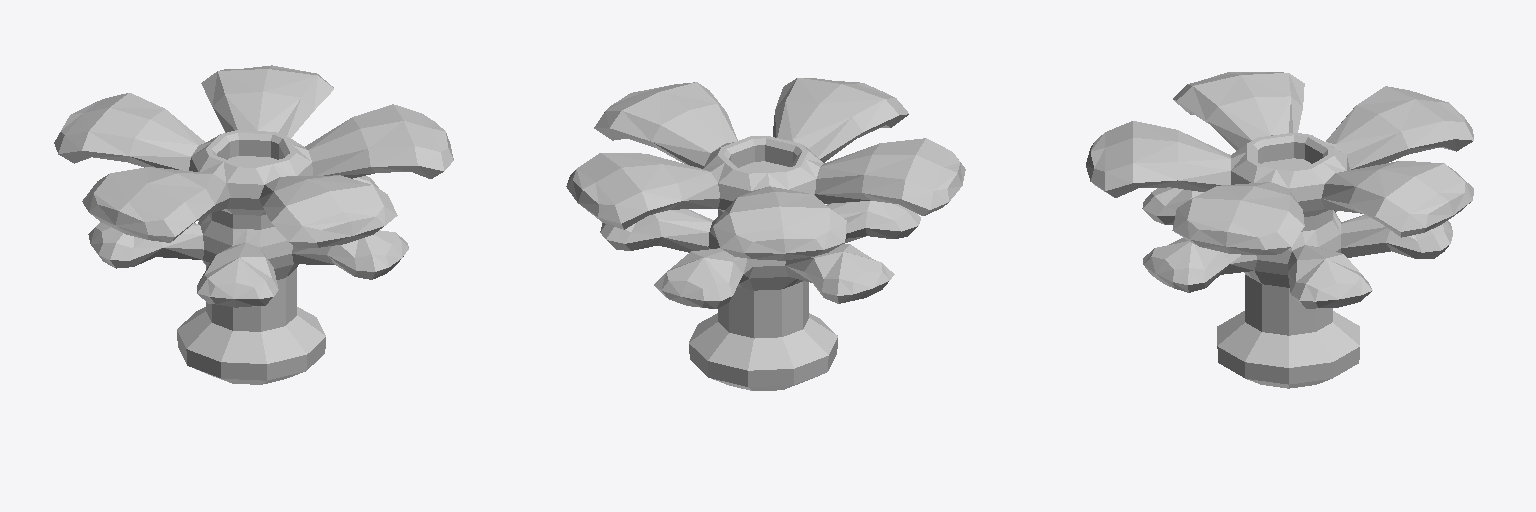
The model's file is Flower.obj.
The picture shows the model from 3 angles: view 1: azimuth 30°, elevation 25°; view 2: azimuth 150°, elevation 25°; view 3: azimuth 270°, elevation 25°; orthographic projection.
Parts seen in each view (by area): view 1: Cylinder1; view 2: Cylinder1; view 3: Cylinder1.
Part boxes in pixels (x1,y1,x2,y2): Cylinder1: (54,65,453,384); Cylinder1: (566,78,965,390); Cylinder1: (1086,72,1473,388).
Bounding box in the file's own units: 3.65 × 2.37 × 3.53.